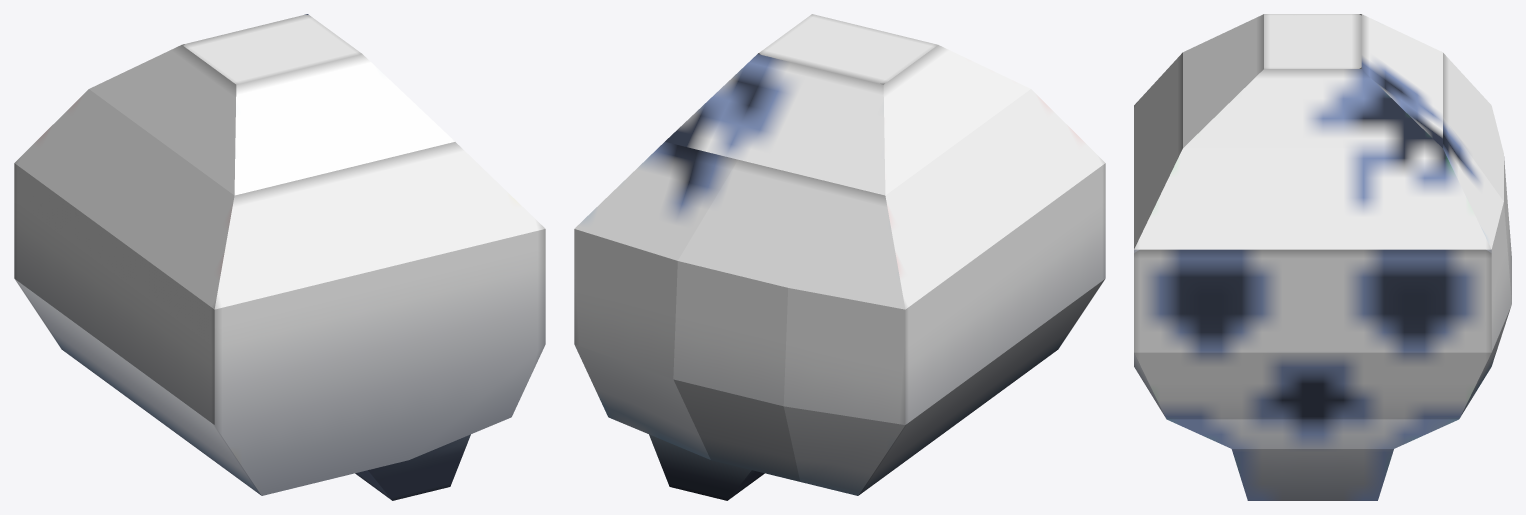
The model's file is skull.fbx.
3 views of the same model, side by side, from view 1: azimuth 30°, elevation 25°; view 2: azimuth 150°, elevation 25°; view 3: azimuth 270°, elevation 25° (orthographic). The views are drawn at different scales.
Visible parts, largest first — view 1: cuboid; view 2: cuboid; view 3: cuboid.
Part boxes in pixels (x1=…): cuboid: x1=14, y1=14, x2=545, y2=500; cuboid: x1=574, y1=14, x2=1105, y2=500; cuboid: x1=1134, y1=14, x2=1511, y2=500.
Bounding box in the file's own units: 13.12 × 16.88 × 14.53.
Materials: 1 (1 with a texture image).
